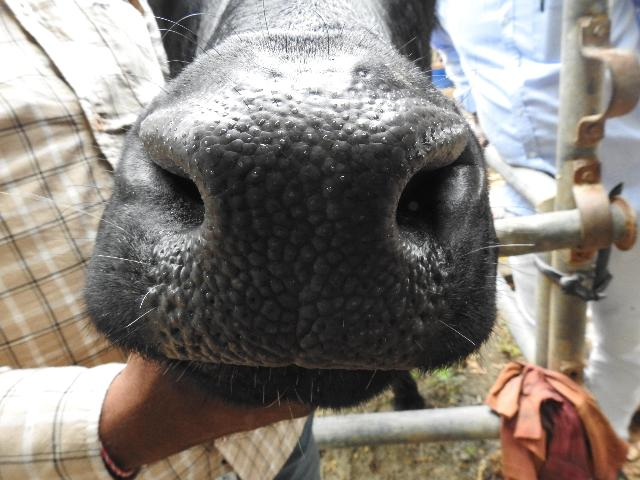Muzzle: (196, 112, 397, 354)
